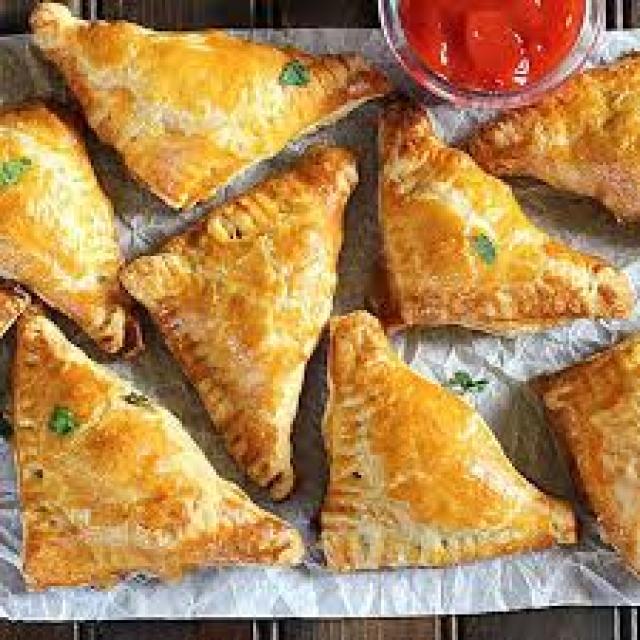SAMOSA: (122, 145, 356, 495), (11, 310, 299, 586), (31, 3, 390, 208), (319, 310, 575, 566), (381, 105, 631, 330), (0, 102, 134, 353), (461, 54, 637, 219), (543, 333, 637, 575)
